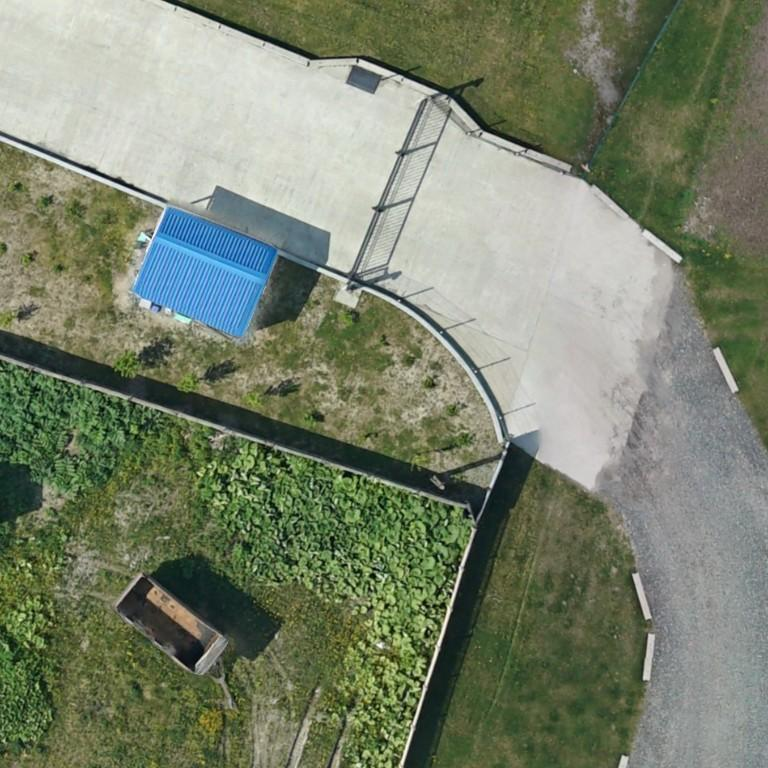hogweed: (0, 361, 155, 496)
